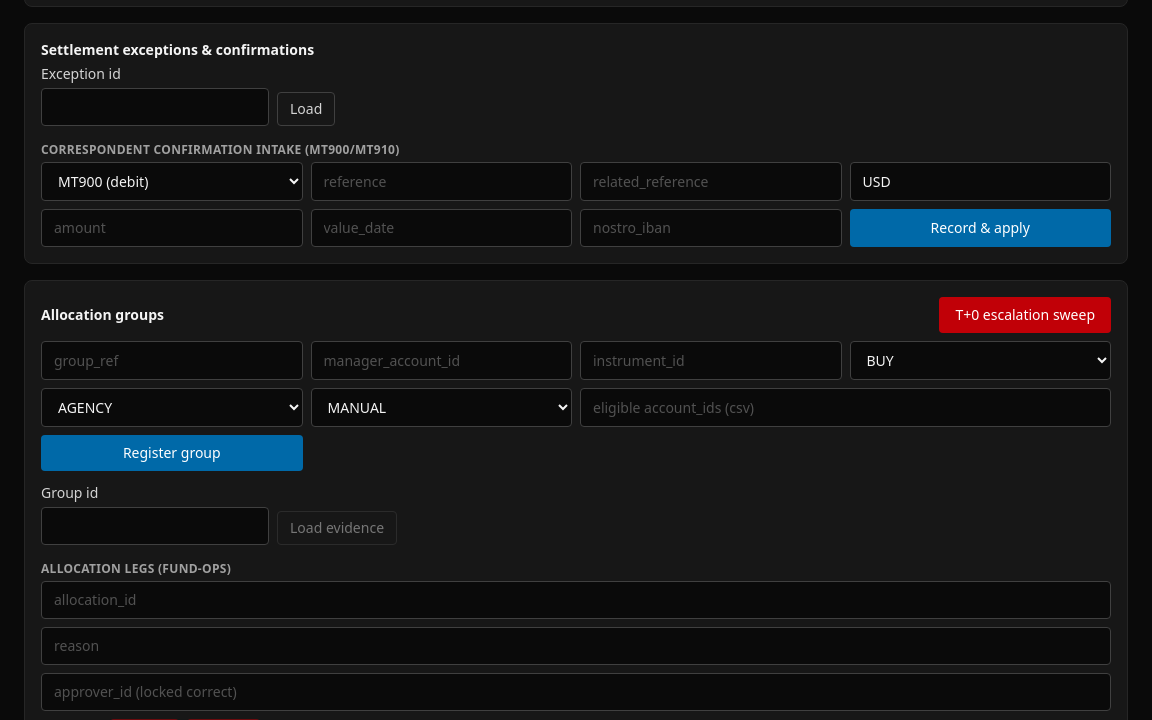
Test: SettlementPage › registers an allocation group and submits it to settlement
(page scrolled)
In the field named "Group ref": (172, 360) [41,341,302,380], type "GRP-9"
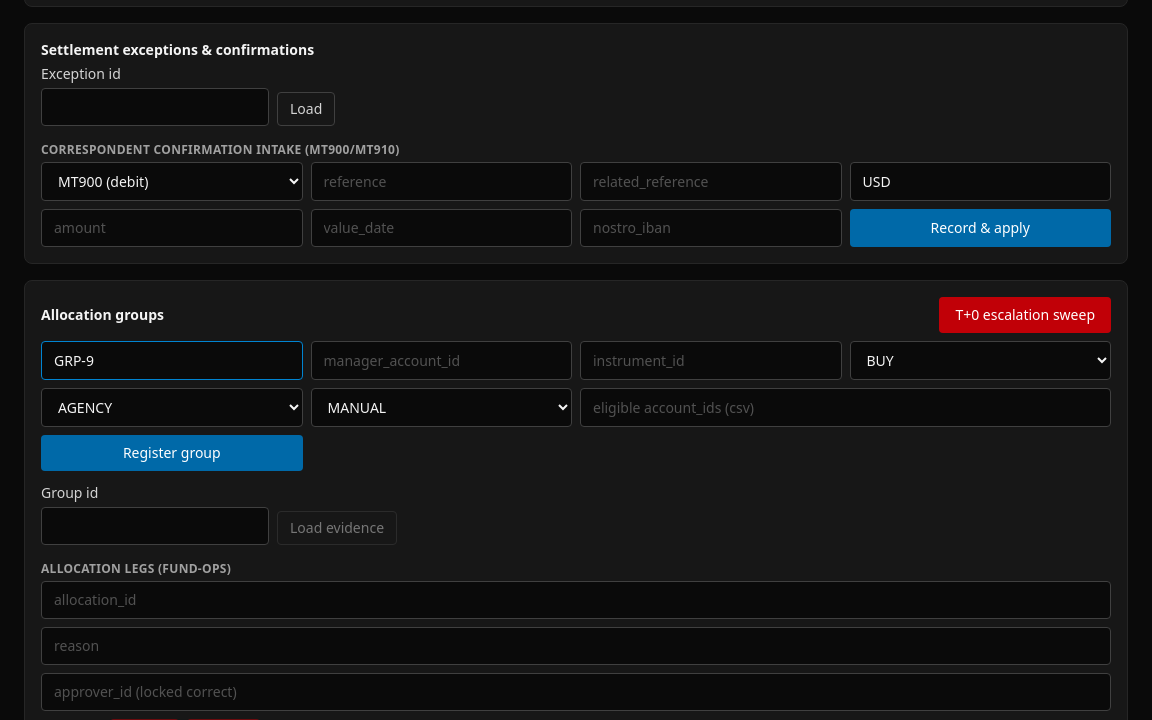
In the field named "Manager account": (441, 360) [310,341,572,380], type "500"
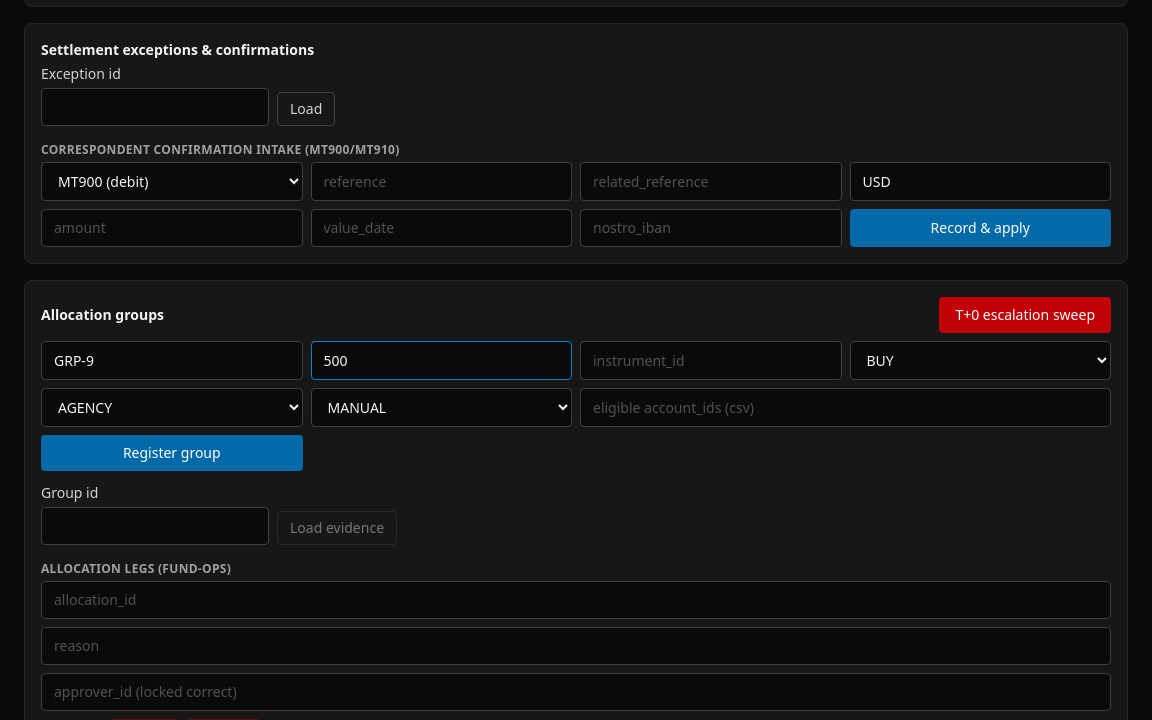
In the field named "Instrument id": (711, 360) [580,341,842,380], type "3"
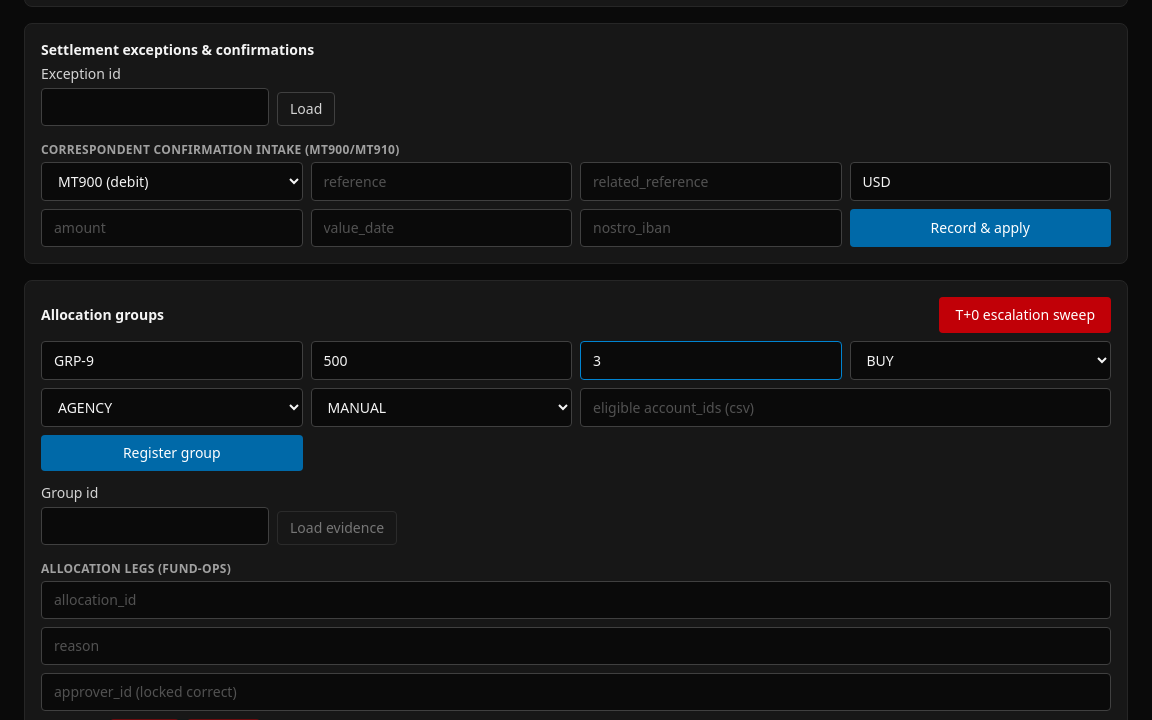
In the field named "Eligible accounts": (846, 408) [580,388,1111,427], type "501,502"
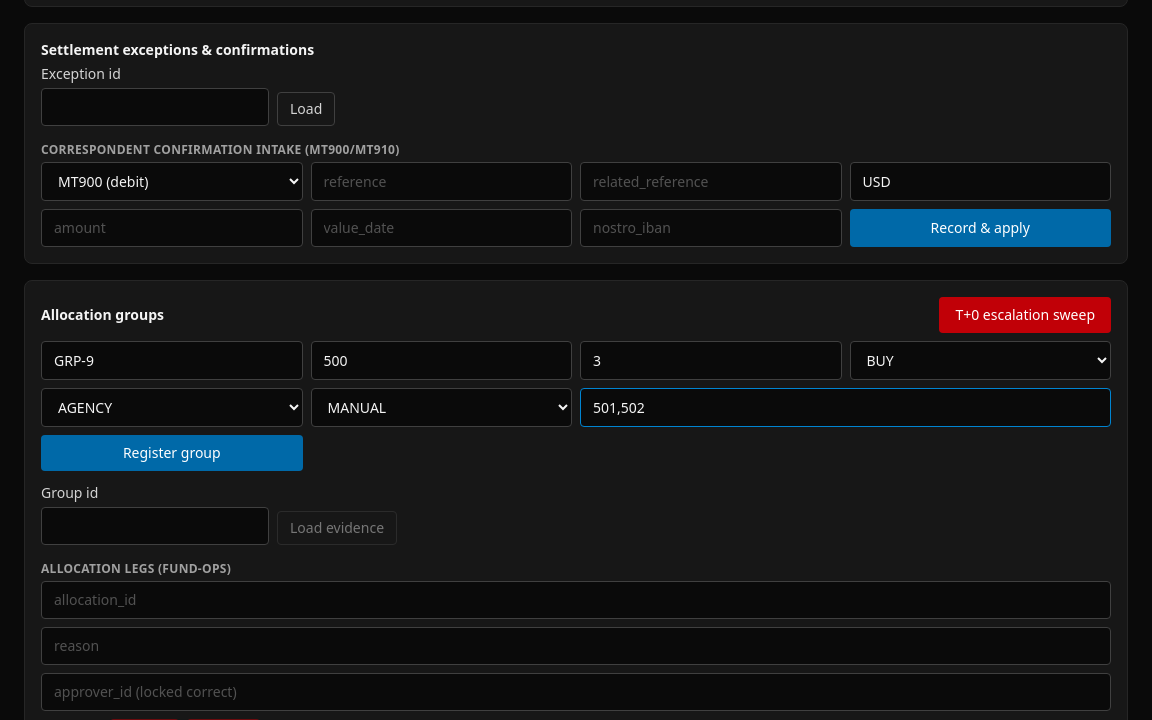
Click the button "Register group": click(172, 453) [41,435,302,471]
(page scrolled)
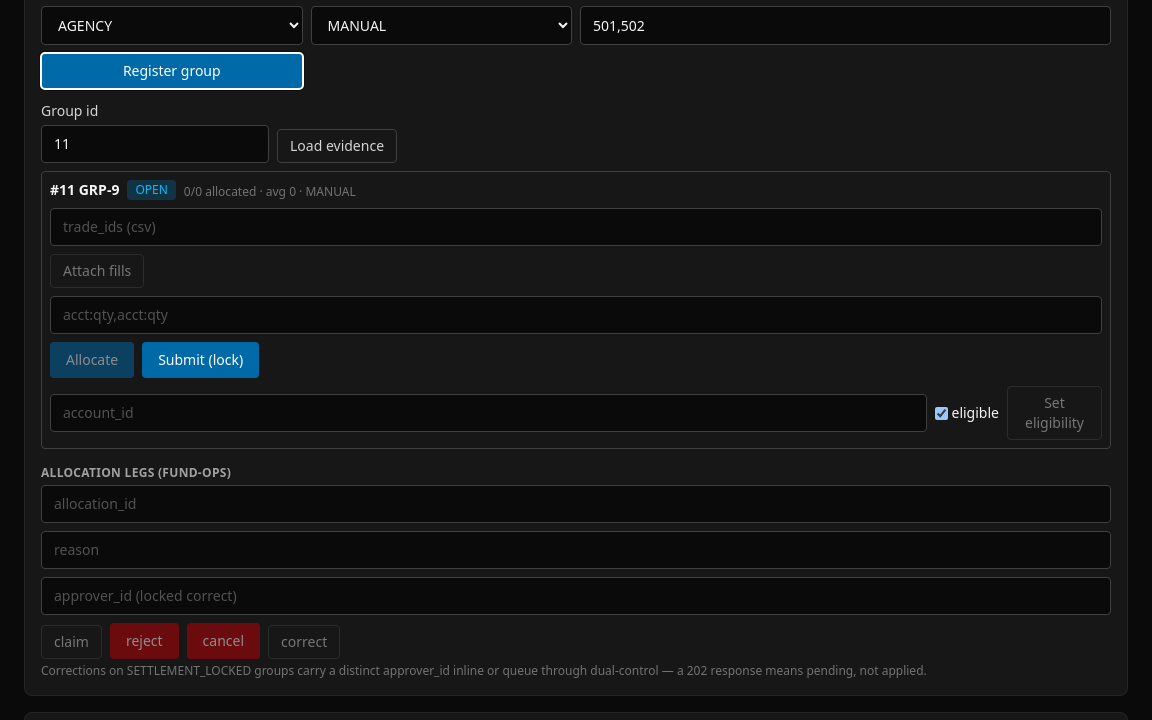
Result: the text "#11 GRP-9" is shown at [50,180,119,200]
Click the button "Submit (lock)": click(201, 360) [142,342,259,378]
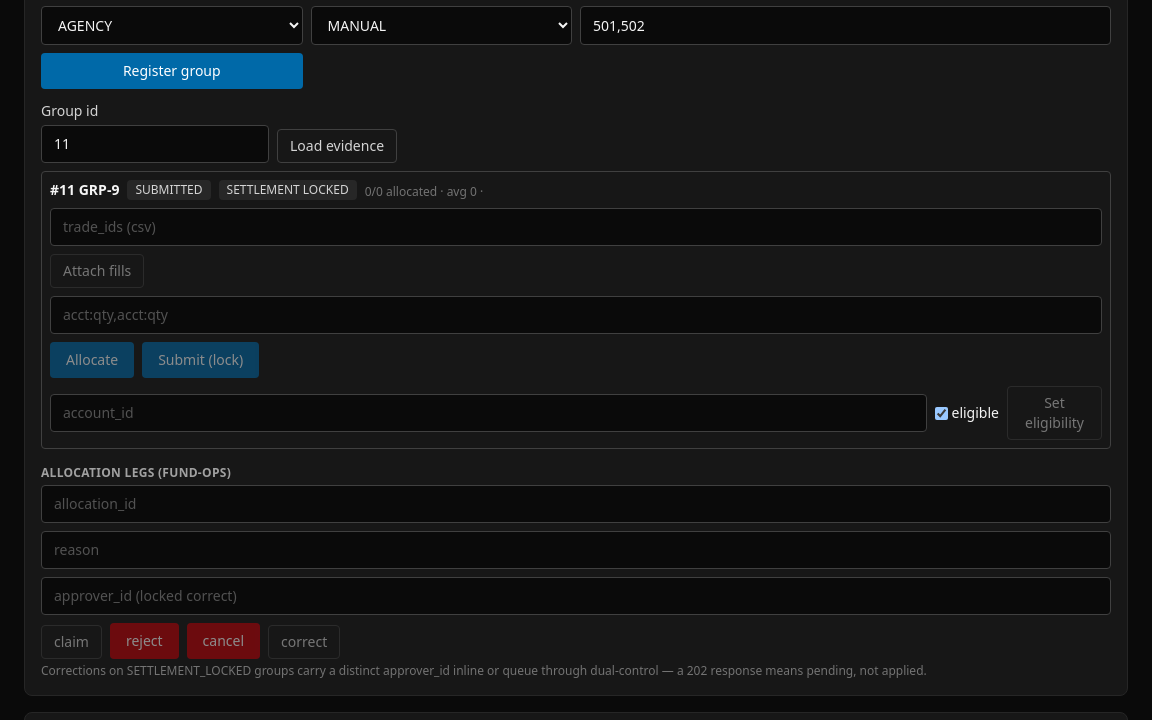
Result: the text "SETTLEMENT LOCKED" is shown at [218,180,357,200]
